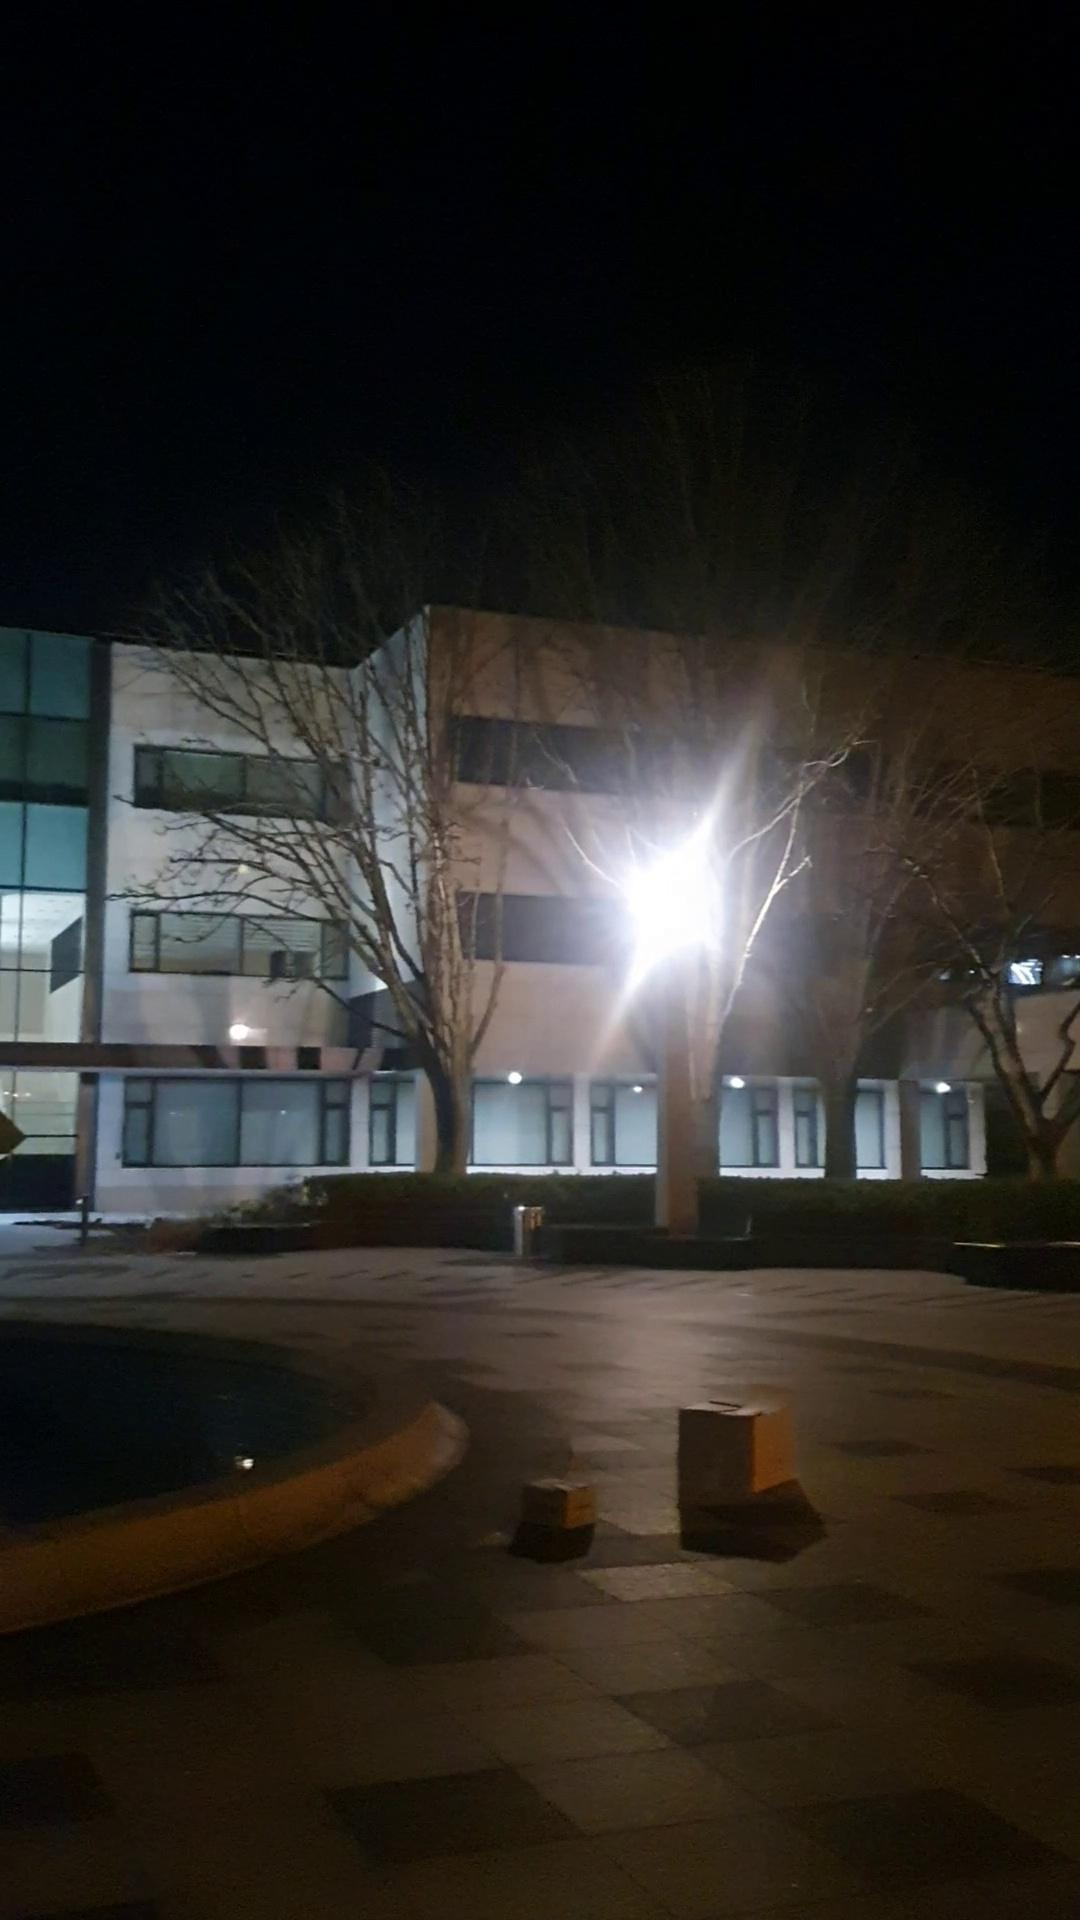Box: (671, 1395, 804, 1497), (516, 1462, 603, 1543)
